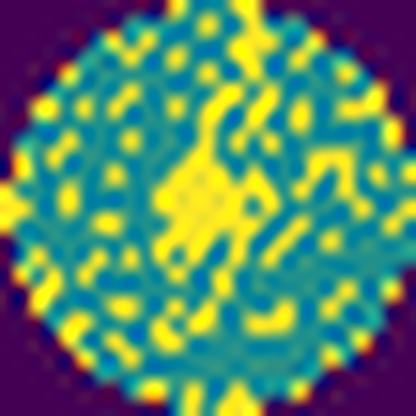Center: (154, 85, 279, 344)
